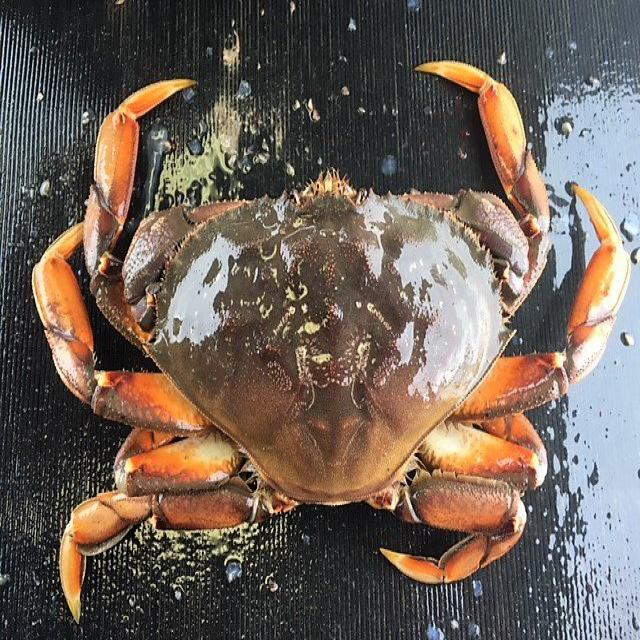crab: (121, 172, 533, 509)
